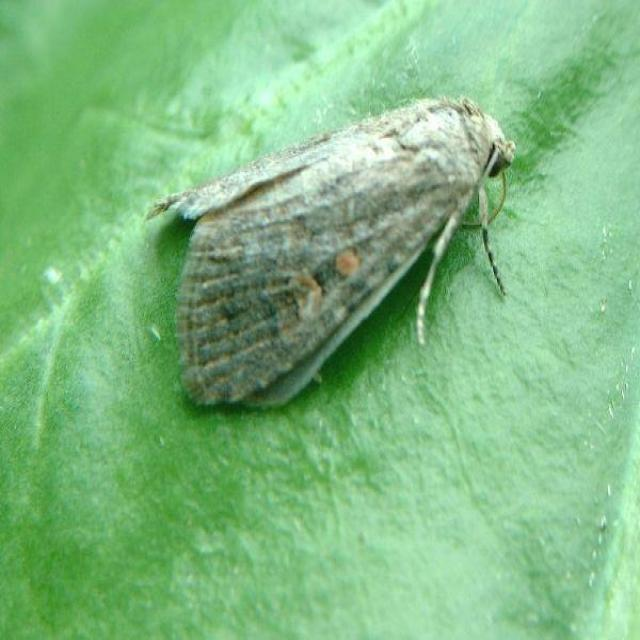BeetArmyWorm-Adult-: (139, 87, 525, 420)
